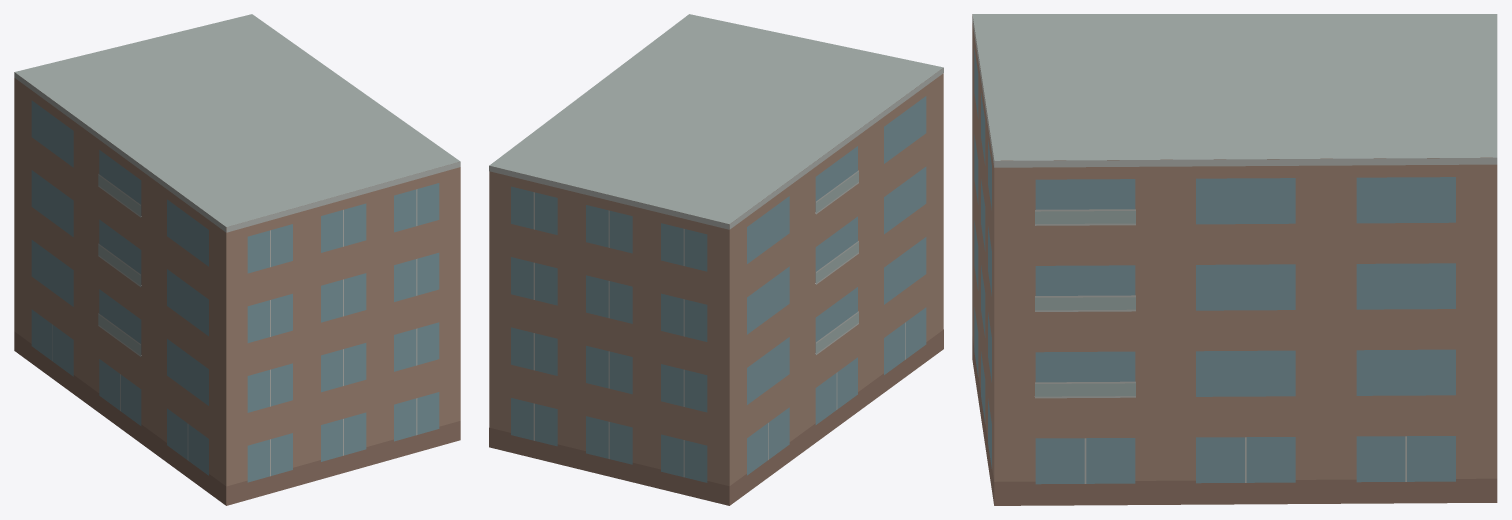
Rendered from residential-ff7d67b1-8169-4f38-a187-fd4e0fa4f468.glb.
3 renders of one model, left to right at view 1: azimuth 30°, elevation 25°; view 2: azimuth 150°, elevation 25°; view 3: azimuth 270°, elevation 25°, orthographic. The views are drawn at different scales.
Visible parts, largest first — view 1: residential-ff7d67b1-8169-4f38-a187-fd4e0fa4f468.tmp; view 2: residential-ff7d67b1-8169-4f38-a187-fd4e0fa4f468.tmp; view 3: residential-ff7d67b1-8169-4f38-a187-fd4e0fa4f468.tmp.
Part boxes in pixels (x1,y1,x2,y2): residential-ff7d67b1-8169-4f38-a187-fd4e0fa4f468.tmp: [14, 14, 460, 505]; residential-ff7d67b1-8169-4f38-a187-fd4e0fa4f468.tmp: [489, 14, 943, 505]; residential-ff7d67b1-8169-4f38-a187-fd4e0fa4f468.tmp: [972, 14, 1497, 505].
Size of the model in its own units: 11.19 by 12.2 by 16.84.
